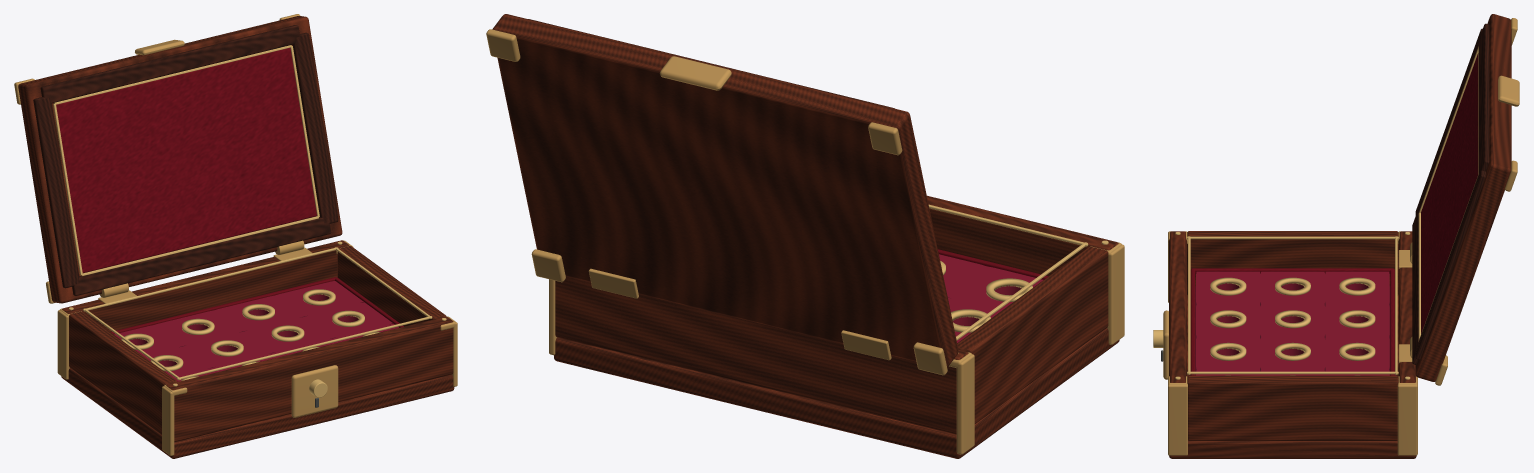
Rendered from PinCoffer.fbx.
3 views of the same model, side by side, from view 1: azimuth 30°, elevation 25°; view 2: azimuth 150°, elevation 25°; view 3: azimuth 270°, elevation 25° (orthographic). The views are drawn at different scales.
Visible parts, largest first — view 1: Lid | crimson velvet inner face, Chest | front wall, Chest | rear wall, Lid | solid wooden panel, Chest | thick solid wooden bottom, Chest | left side wall, Lid | inner velvet end rail, Lid | inner velvet end rail.001, Lid | inner velvet side rail, Lid | inner velvet side rail.001, Chest | right side wall, Brass | front lock shield (+17 smaller); view 2: Lid | solid wooden panel, Chest | rear wall, Chest | thick solid wooden bottom, Chest | left side wall, Chest | front wall, Brass | corner vertical guard.001, Velvet | cavity_09, Brass | corner vertical guard, Brass | lid closure plate, Brass | hinge plate lid, Brass | hinge plate lid.001, Velvet | cavity_10 (+7 smaller); view 3: Chest | right side wall, Lid | solid wooden panel, Chest | left side wall, Lid | crimson velvet inner face, Chest | thick solid wooden bottom, Chest | front wall, Velvet | cavity_01, Velvet | cavity_09, Velvet | cavity_05, Velvet | cavity_02, Velvet | cavity_03, Velvet | cavity_10 (+30 smaller).
Boxes of the visible parts, x1,y1,x2,y2 form: Lid | crimson velvet inner face: [56, 48, 316, 273]; Chest | front wall: [166, 316, 453, 442]; Chest | rear wall: [62, 240, 349, 331]; Lid | solid wooden panel: [18, 16, 342, 303]; Chest | thick solid wooden bottom: [61, 368, 454, 458]; Chest | left side wall: [69, 311, 177, 434]; Lid | inner velvet end rail: [40, 25, 299, 103]; Lid | inner velvet end rail.001: [72, 217, 331, 295]; Lid | inner velvet side rail: [33, 97, 79, 288]; Lid | inner velvet side rail.001: [292, 32, 338, 223]; Chest | right side wall: [337, 246, 445, 326]; Brass | front lock shield: [291, 365, 338, 417]; Lid | solid wooden panel: [492, 14, 958, 367]; Chest | rear wall: [555, 276, 968, 434]; Chest | thick solid wooden bottom: [554, 328, 1119, 458]; Chest | left side wall: [957, 246, 1108, 423]; Chest | front wall: [927, 195, 1118, 275]; Brass | corner vertical guard.001: [956, 354, 974, 454]; Velvet | cavity_09: [947, 266, 1043, 310]; Brass | corner vertical guard: [1107, 244, 1124, 344]; Brass | lid closure plate: [660, 56, 731, 90]; Brass | hinge plate lid: [841, 330, 891, 360]; Brass | hinge plate lid.001: [588, 268, 638, 298]; Velvet | cavity_10: [939, 254, 986, 294]; Chest | right side wall: [1187, 375, 1398, 440]; Lid | solid wooden panel: [1415, 14, 1511, 381]; Chest | left side wall: [1187, 231, 1398, 295]; Lid | crimson velvet inner face: [1421, 53, 1478, 333]; Chest | thick solid wooden bottom: [1169, 295, 1416, 458]; Chest | front wall: [1169, 231, 1186, 382]; Velvet | cavity_01: [1325, 271, 1389, 304]; Velvet | cavity_09: [1196, 271, 1260, 304]; Velvet | cavity_05: [1260, 271, 1324, 304]; Velvet | cavity_02: [1325, 304, 1389, 336]; Velvet | cavity_03: [1325, 337, 1389, 369]; Velvet | cavity_10: [1196, 304, 1260, 336].
Size of the model in its own units: 0.1628 by 0.146 by 0.1628.
Materials: 8 (3 with a texture image).
